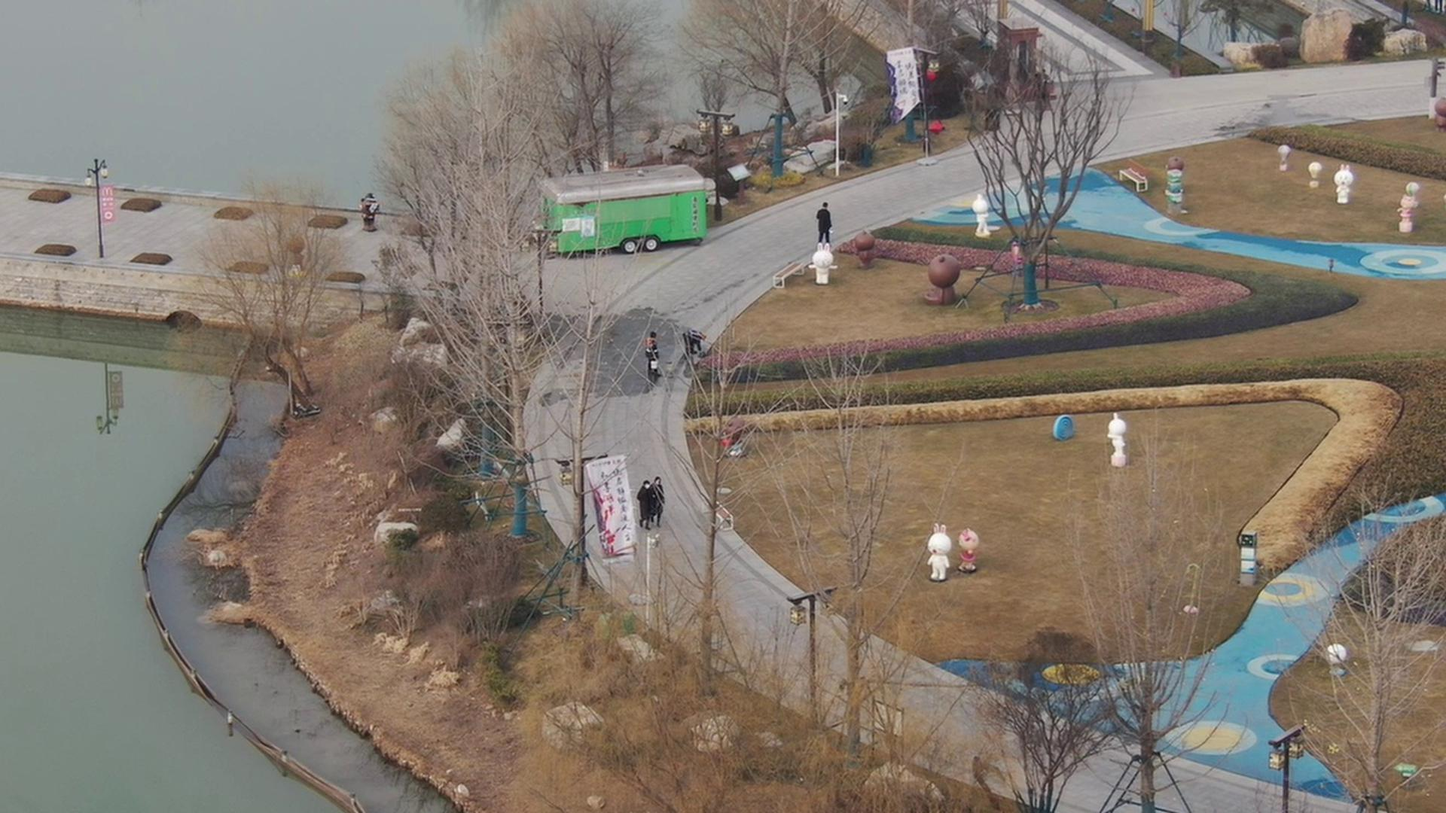class_2: (633, 471, 666, 537)
human: (807, 199, 834, 251), (676, 324, 709, 365), (639, 336, 661, 383)
